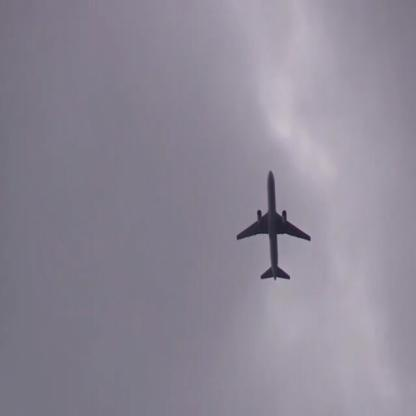CIV_Plane: (236, 170, 312, 280)
